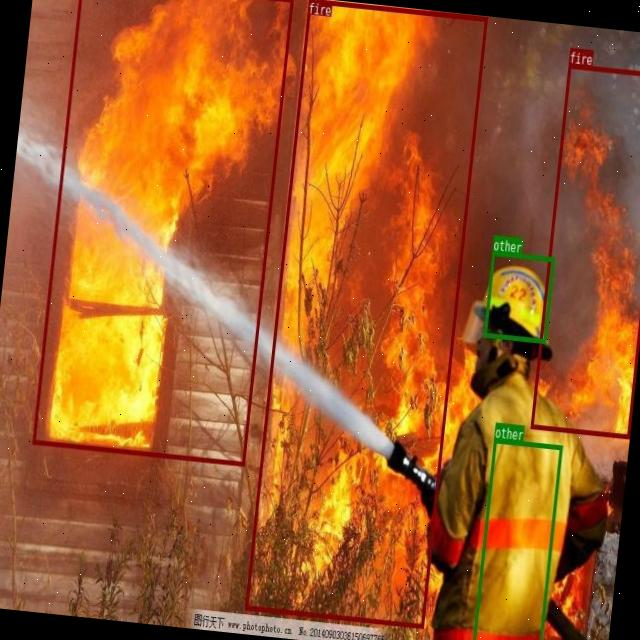fire: (243, 0, 486, 627), (31, 0, 292, 465), (530, 63, 640, 436)
